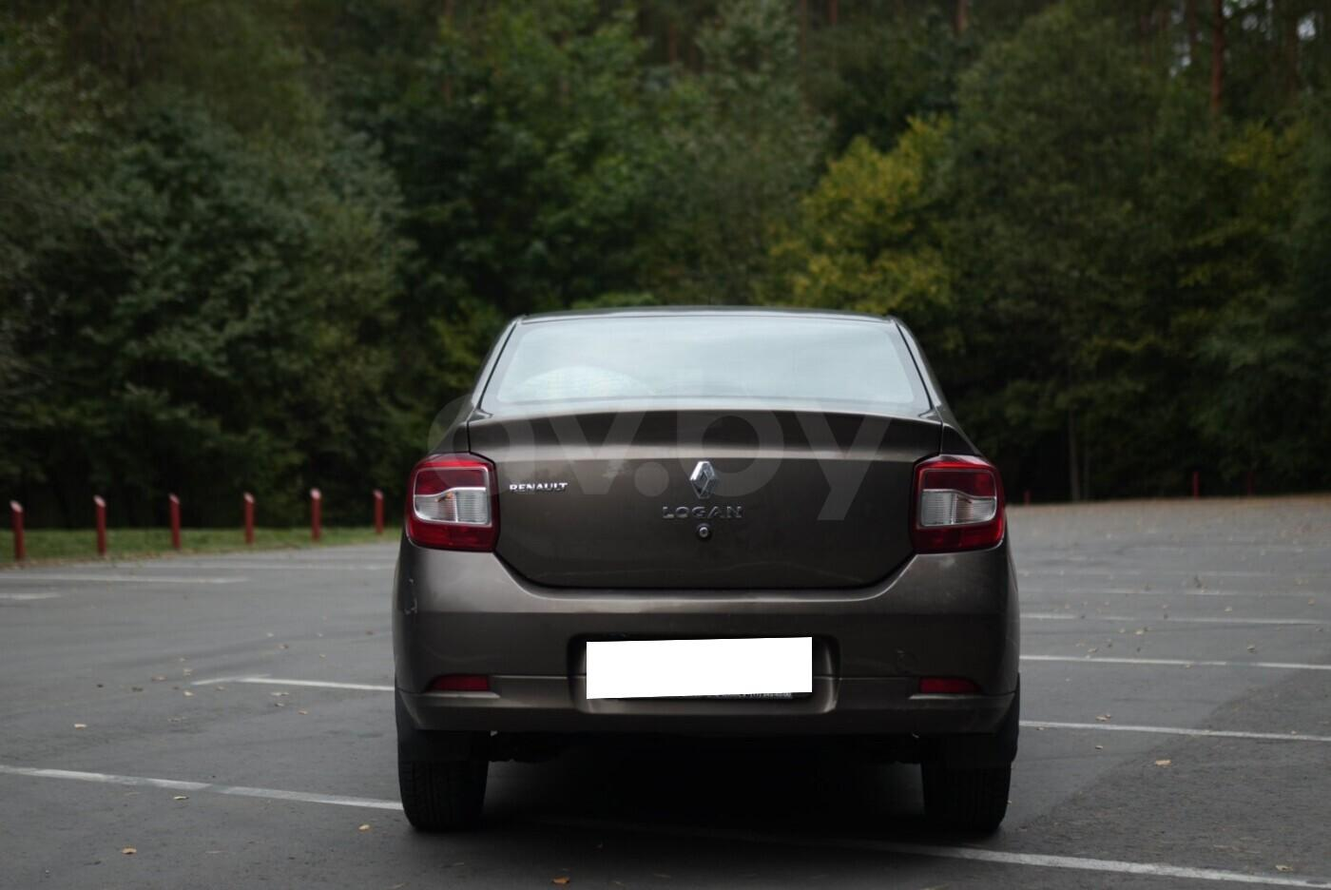Logan_2018: (383, 298, 1043, 847)
